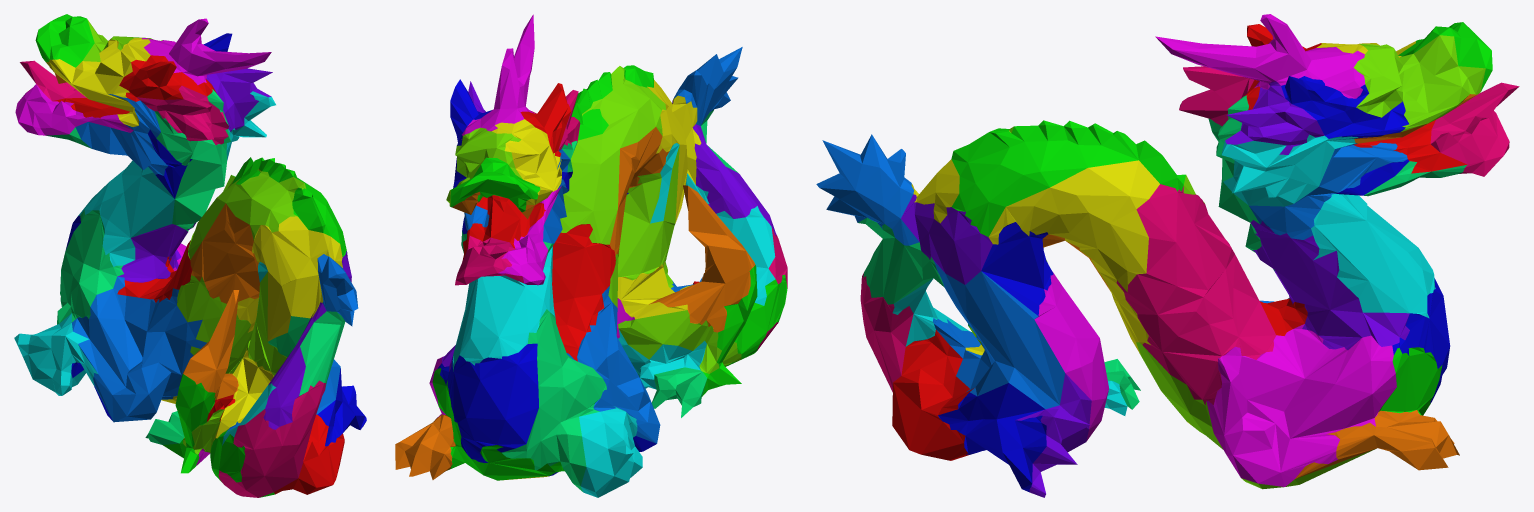
The model's file is Dragon_80K_nanite_LOD4.fbx.
3 views of the same model, side by side, from view 1: azimuth 30°, elevation 25°; view 2: azimuth 150°, elevation 25°; view 3: azimuth 270°, elevation 25° (orthographic). The views are drawn at different scales.
Bounding box in the file's own units: 0.4456 × 0.7082 × 0.9995.
